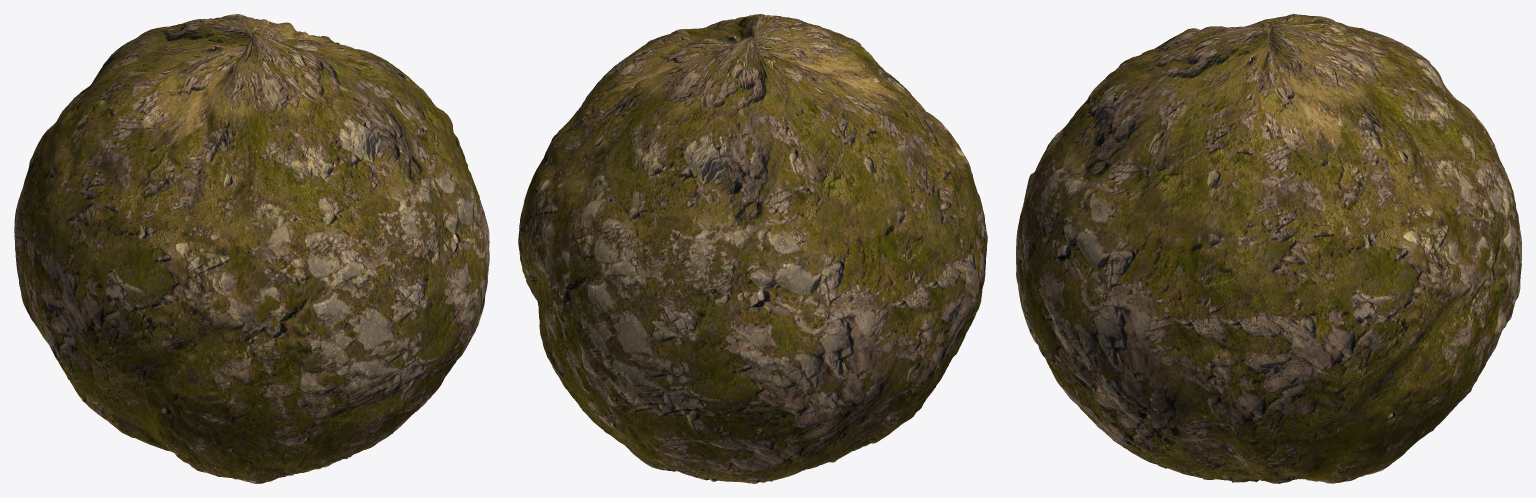
File: aerial_rocks_04_1k.gltf
The picture shows the model from 3 angles, left to right: view 1: azimuth 30°, elevation 25°; view 2: azimuth 150°, elevation 25°; view 3: azimuth 270°, elevation 25°; orthographic projection. The views are drawn at different scales.
Parts seen in each view (by area): view 1: sphere_gltf; view 2: sphere_gltf; view 3: sphere_gltf.
Boxes of the visible parts, bbox=[...] form: sphere_gltf: bbox=[14, 14, 489, 483]; sphere_gltf: bbox=[518, 14, 987, 483]; sphere_gltf: bbox=[1016, 14, 1521, 483].
Bounding box in the file's own units: 80.81 × 82.38 × 84.55.
